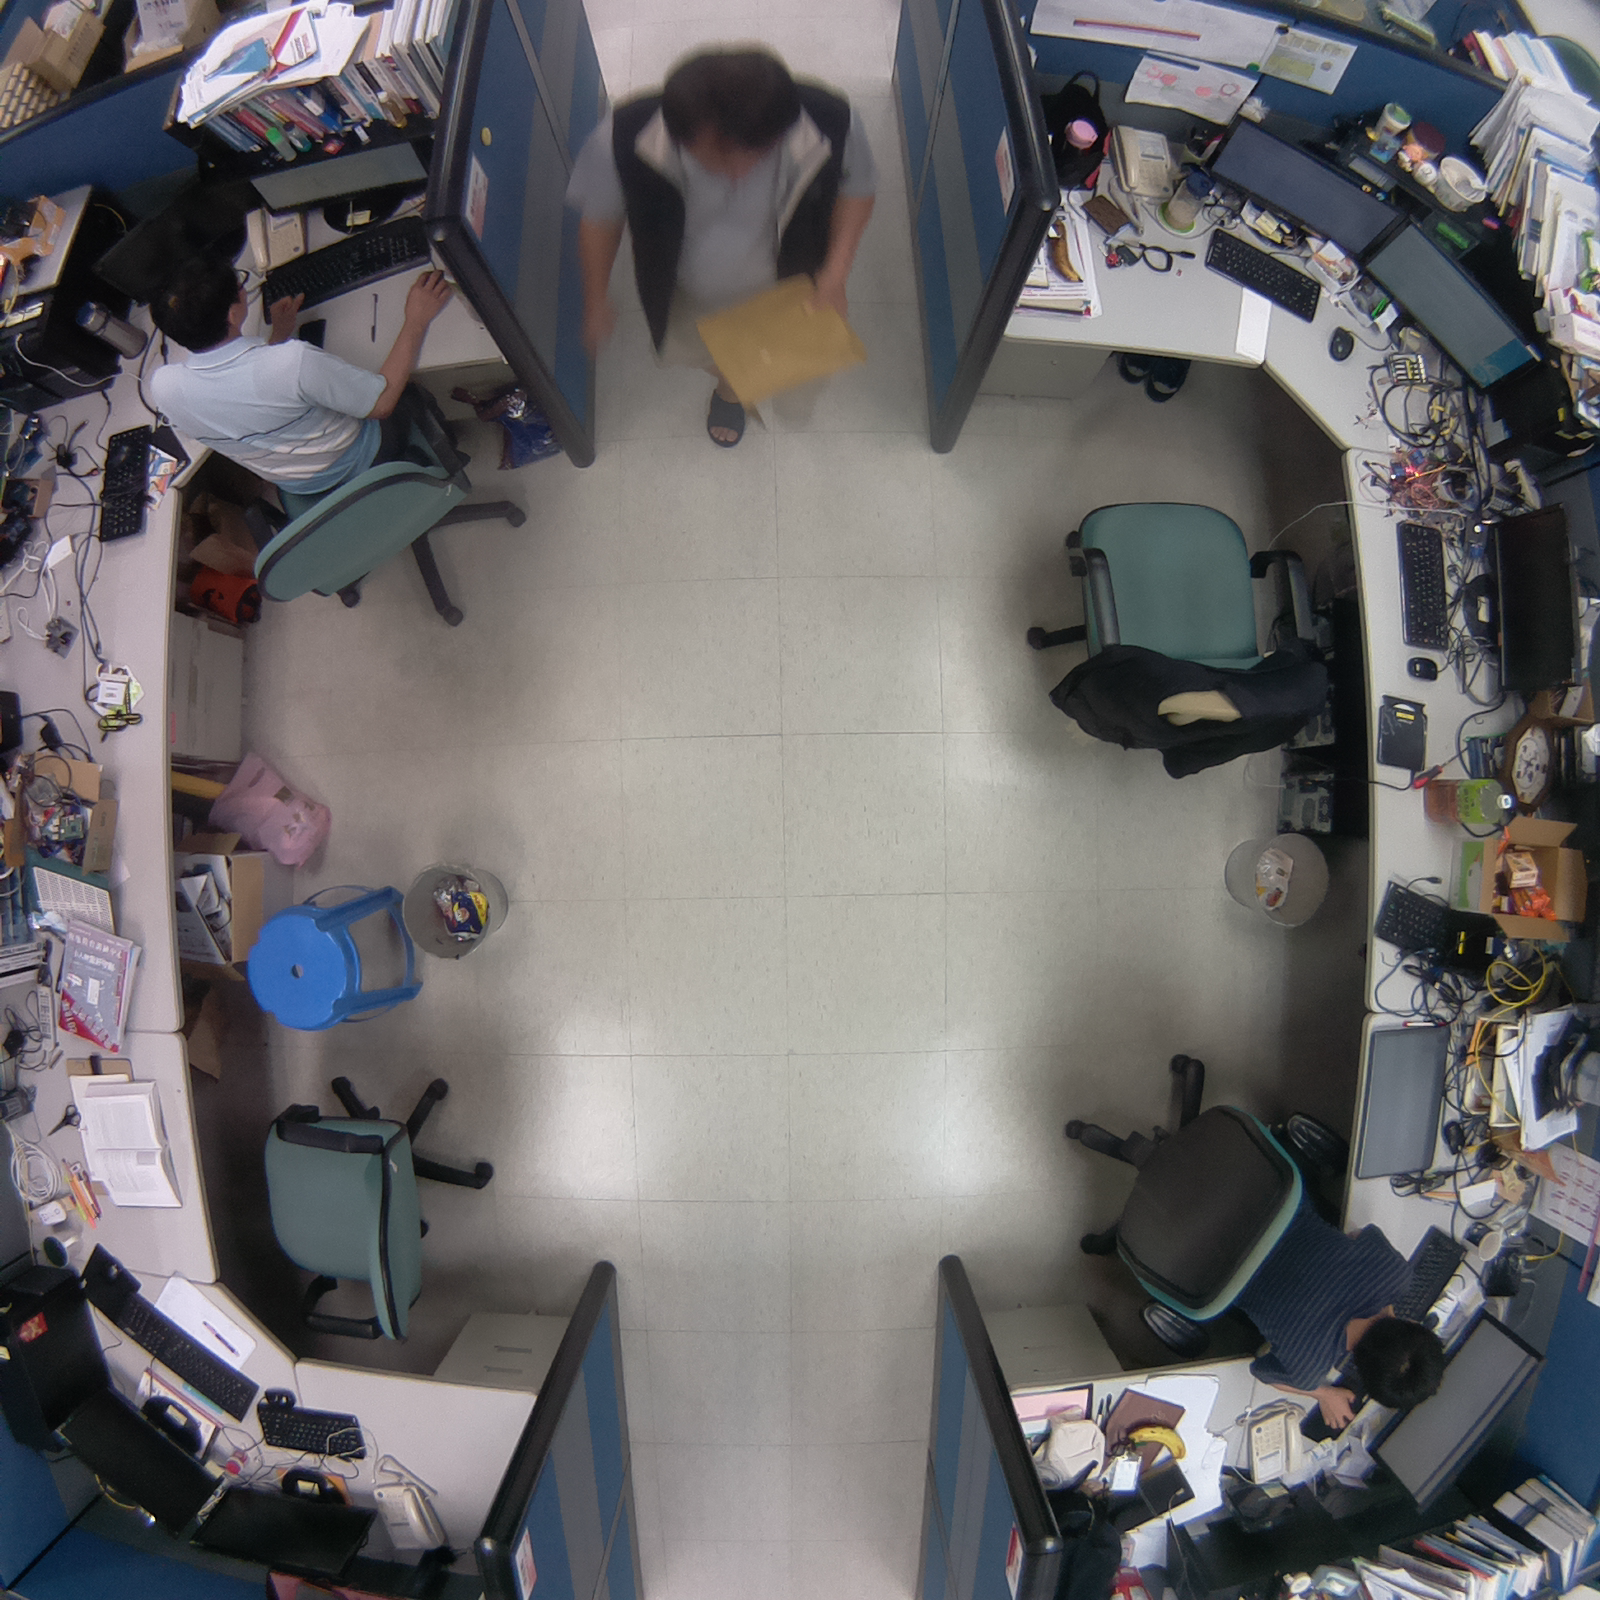chair: (996, 470, 1345, 791), (240, 1047, 532, 1368)
head: (643, 38, 812, 189), (1332, 1309, 1454, 1416), (137, 251, 257, 347)
sitting: (1035, 1032, 1453, 1443), (131, 246, 537, 627)
walking: (562, 41, 893, 477)
